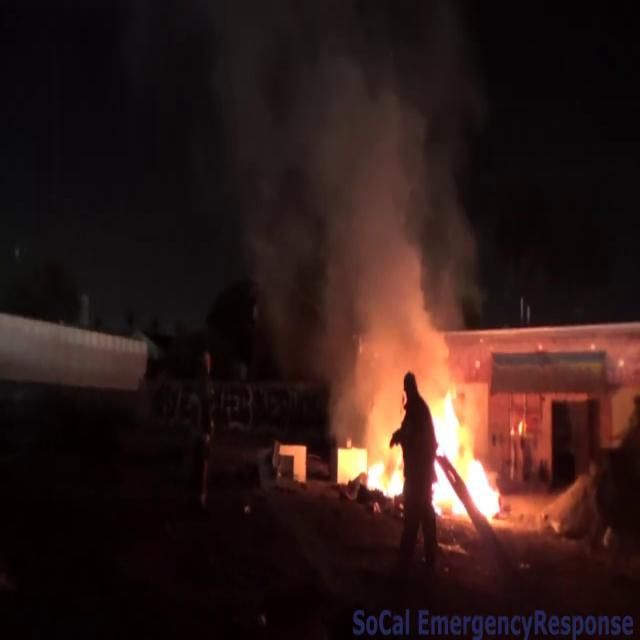Fire: (429, 376, 507, 524), (340, 426, 408, 506)
Smoke: (186, 1, 495, 396)
